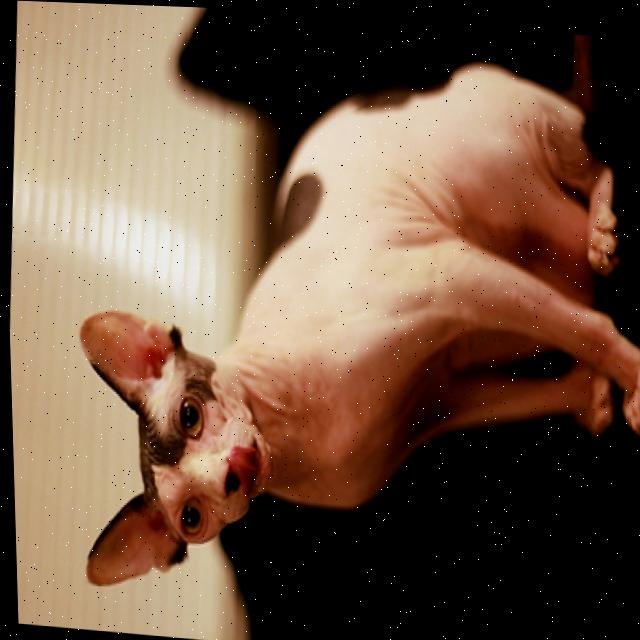Sphynx: (47, 18, 640, 637)
